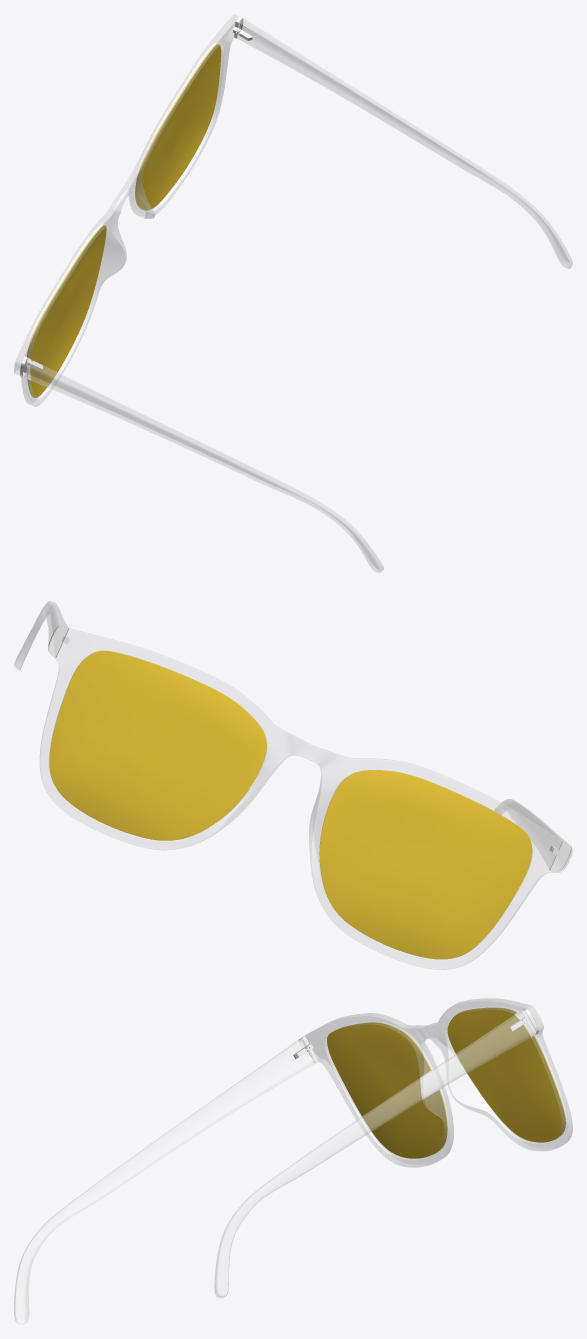
The model's file is oclar.glb.
3 views of the same model, one above another, from view 1: azimuth 30°, elevation 25°; view 2: azimuth 150°, elevation 25°; view 3: azimuth 270°, elevation 25° (orthographic). The views are drawn at different scales.
Parts seen in each view (by area): view 1: Plane.001; view 2: Plane.001; view 3: Plane.001.
Part boxes in pixels (x1,y1,x2,y2): Plane.001: (14, 14, 572, 572); Plane.001: (14, 601, 572, 969); Plane.001: (14, 998, 572, 1324).
Size of the model in its own units: 2.52 by 1.65 by 2.26.
